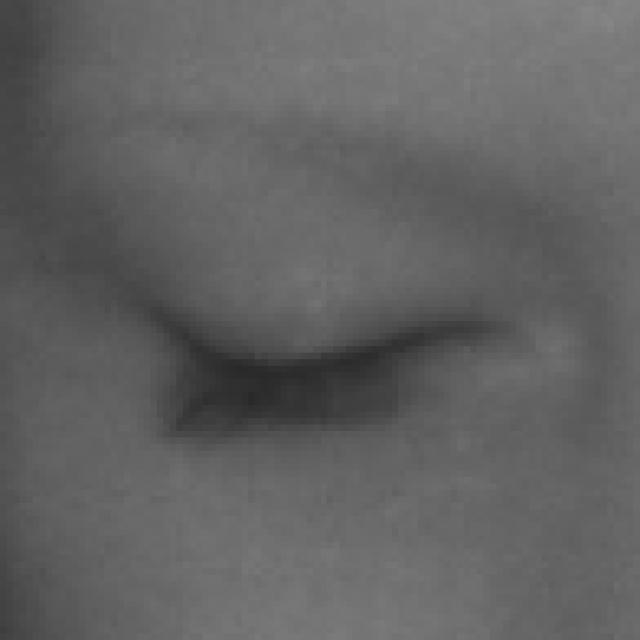Eyeclosed: (144, 210, 497, 554)
